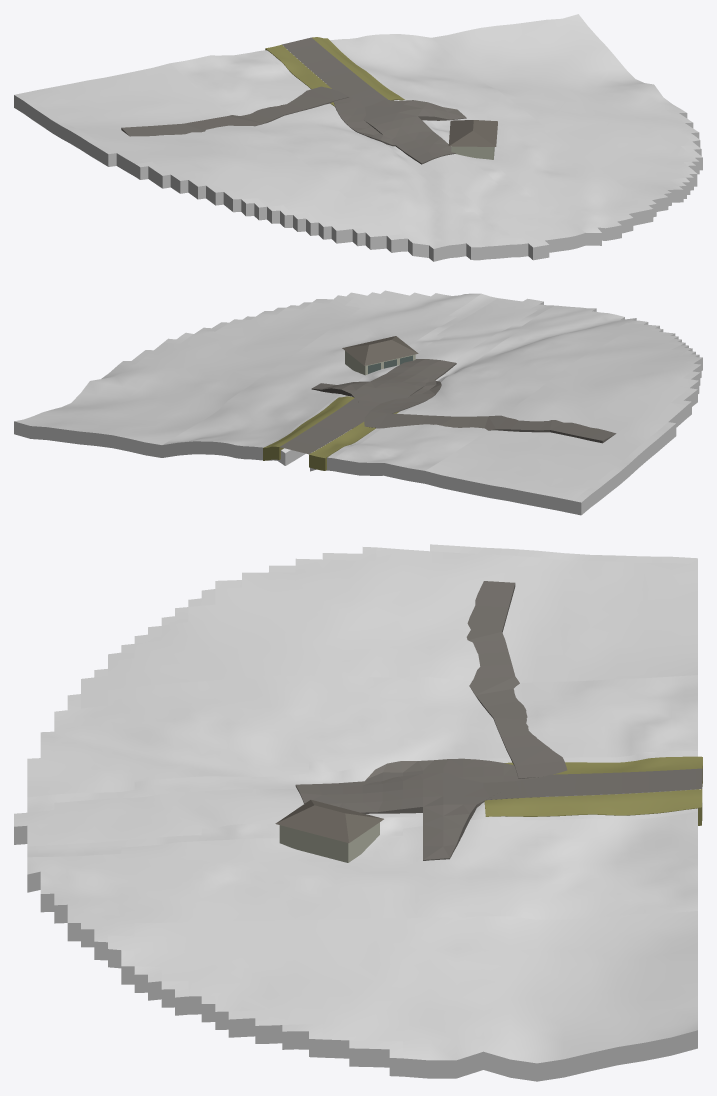
File: conz_26.glb
3 renders of one model, top to bottom at view 1: azimuth 30°, elevation 25°; view 2: azimuth 150°, elevation 25°; view 3: azimuth 270°, elevation 25°, orthographic. The views are drawn at different scales.
Parts seen in each view (by area): view 1: terrain26, lot26_8, lot_side1460026, road26, posts_garr26, lot_fore26, verge26L, verge26R, posts_gar26; view 2: terrain26, lot_side1460026, lot26_8, road26, posts_garr26, verge26R, verge26L, lot_fore26, posts_gar26; view 3: terrain26, lot26_8, lot_side1460026, verge26L, road26, lot_fore26, posts_garr26, posts_gar26, verge26R.
Part boxes in pixels (x1,y1,x2,y2): terrain26: [14, 14, 702, 261]; lot26_8: [360, 97, 466, 164]; lot_side1460026: [121, 86, 348, 136]; road26: [282, 37, 387, 102]; posts_garr26: [448, 120, 497, 146]; lot_fore26: [333, 91, 396, 146]; verge26L: [312, 37, 404, 100]; verge26R: [265, 44, 334, 106]; posts_gar26: [451, 146, 494, 159]; terrain26: [14, 290, 702, 515]; lot_side1460026: [364, 411, 616, 443]; lot26_8: [311, 359, 456, 407]; road26: [280, 398, 374, 454]; posts_garr26: [342, 336, 418, 365]; verge26R: [309, 411, 399, 470]; verge26L: [263, 396, 354, 460]; lot_fore26: [364, 379, 441, 417]; posts_gar26: [345, 351, 415, 375]; terrain26: [14, 544, 697, 1081]; lot26_8: [295, 773, 508, 860]; lot_side1460026: [466, 581, 567, 778]; verge26L: [484, 789, 702, 825]; road26: [486, 768, 702, 799]; lot_fore26: [364, 758, 541, 799]; posts_garr26: [275, 800, 383, 842]; posts_gar26: [279, 822, 379, 862]; verge26R: [504, 756, 702, 786].
Bounding box in the file's own units: 138 × 24.56 × 103.
